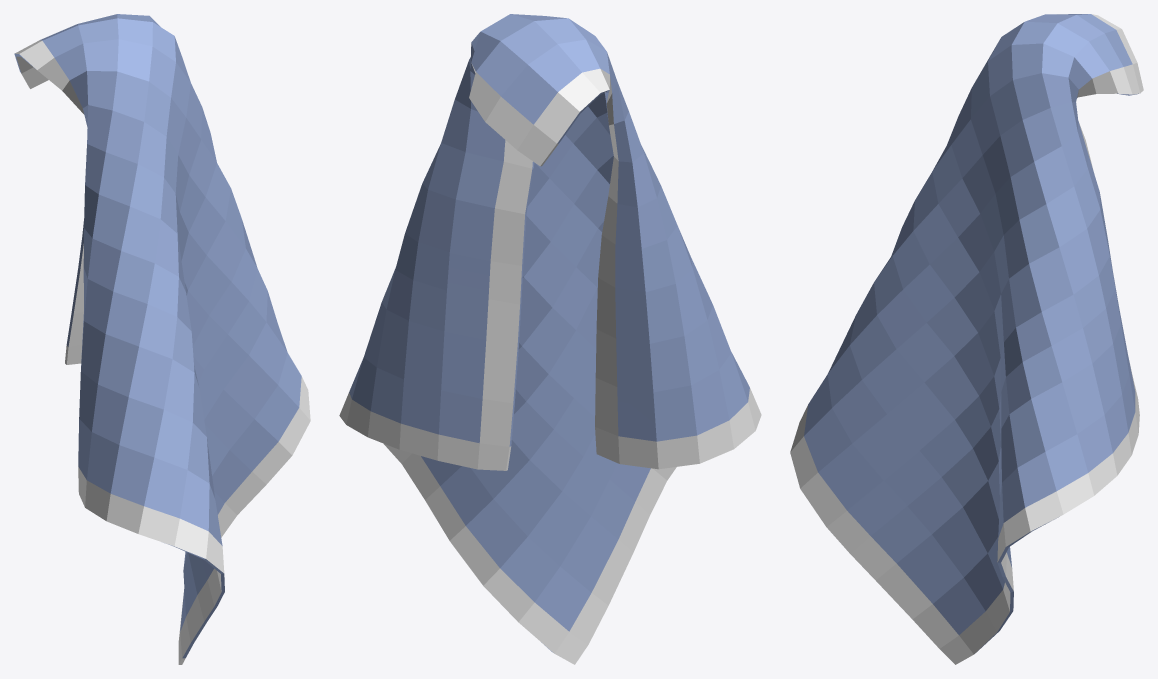
File: Deken.fbx
The picture shows the model from 3 angles, left to right: view 1: azimuth 30°, elevation 25°; view 2: azimuth 150°, elevation 25°; view 3: azimuth 270°, elevation 25°; orthographic projection. The views are drawn at different scales.
Parts seen in each view (by area): view 1: Deken; view 2: Deken; view 3: Deken.
Part boxes in pixels (x1,y1,x2,y2): Deken: (14,14,310,664); Deken: (339,14,761,664); Deken: (790,14,1143,664).
Size of the model in its own units: 0.6167 by 1.28 by 0.646.
